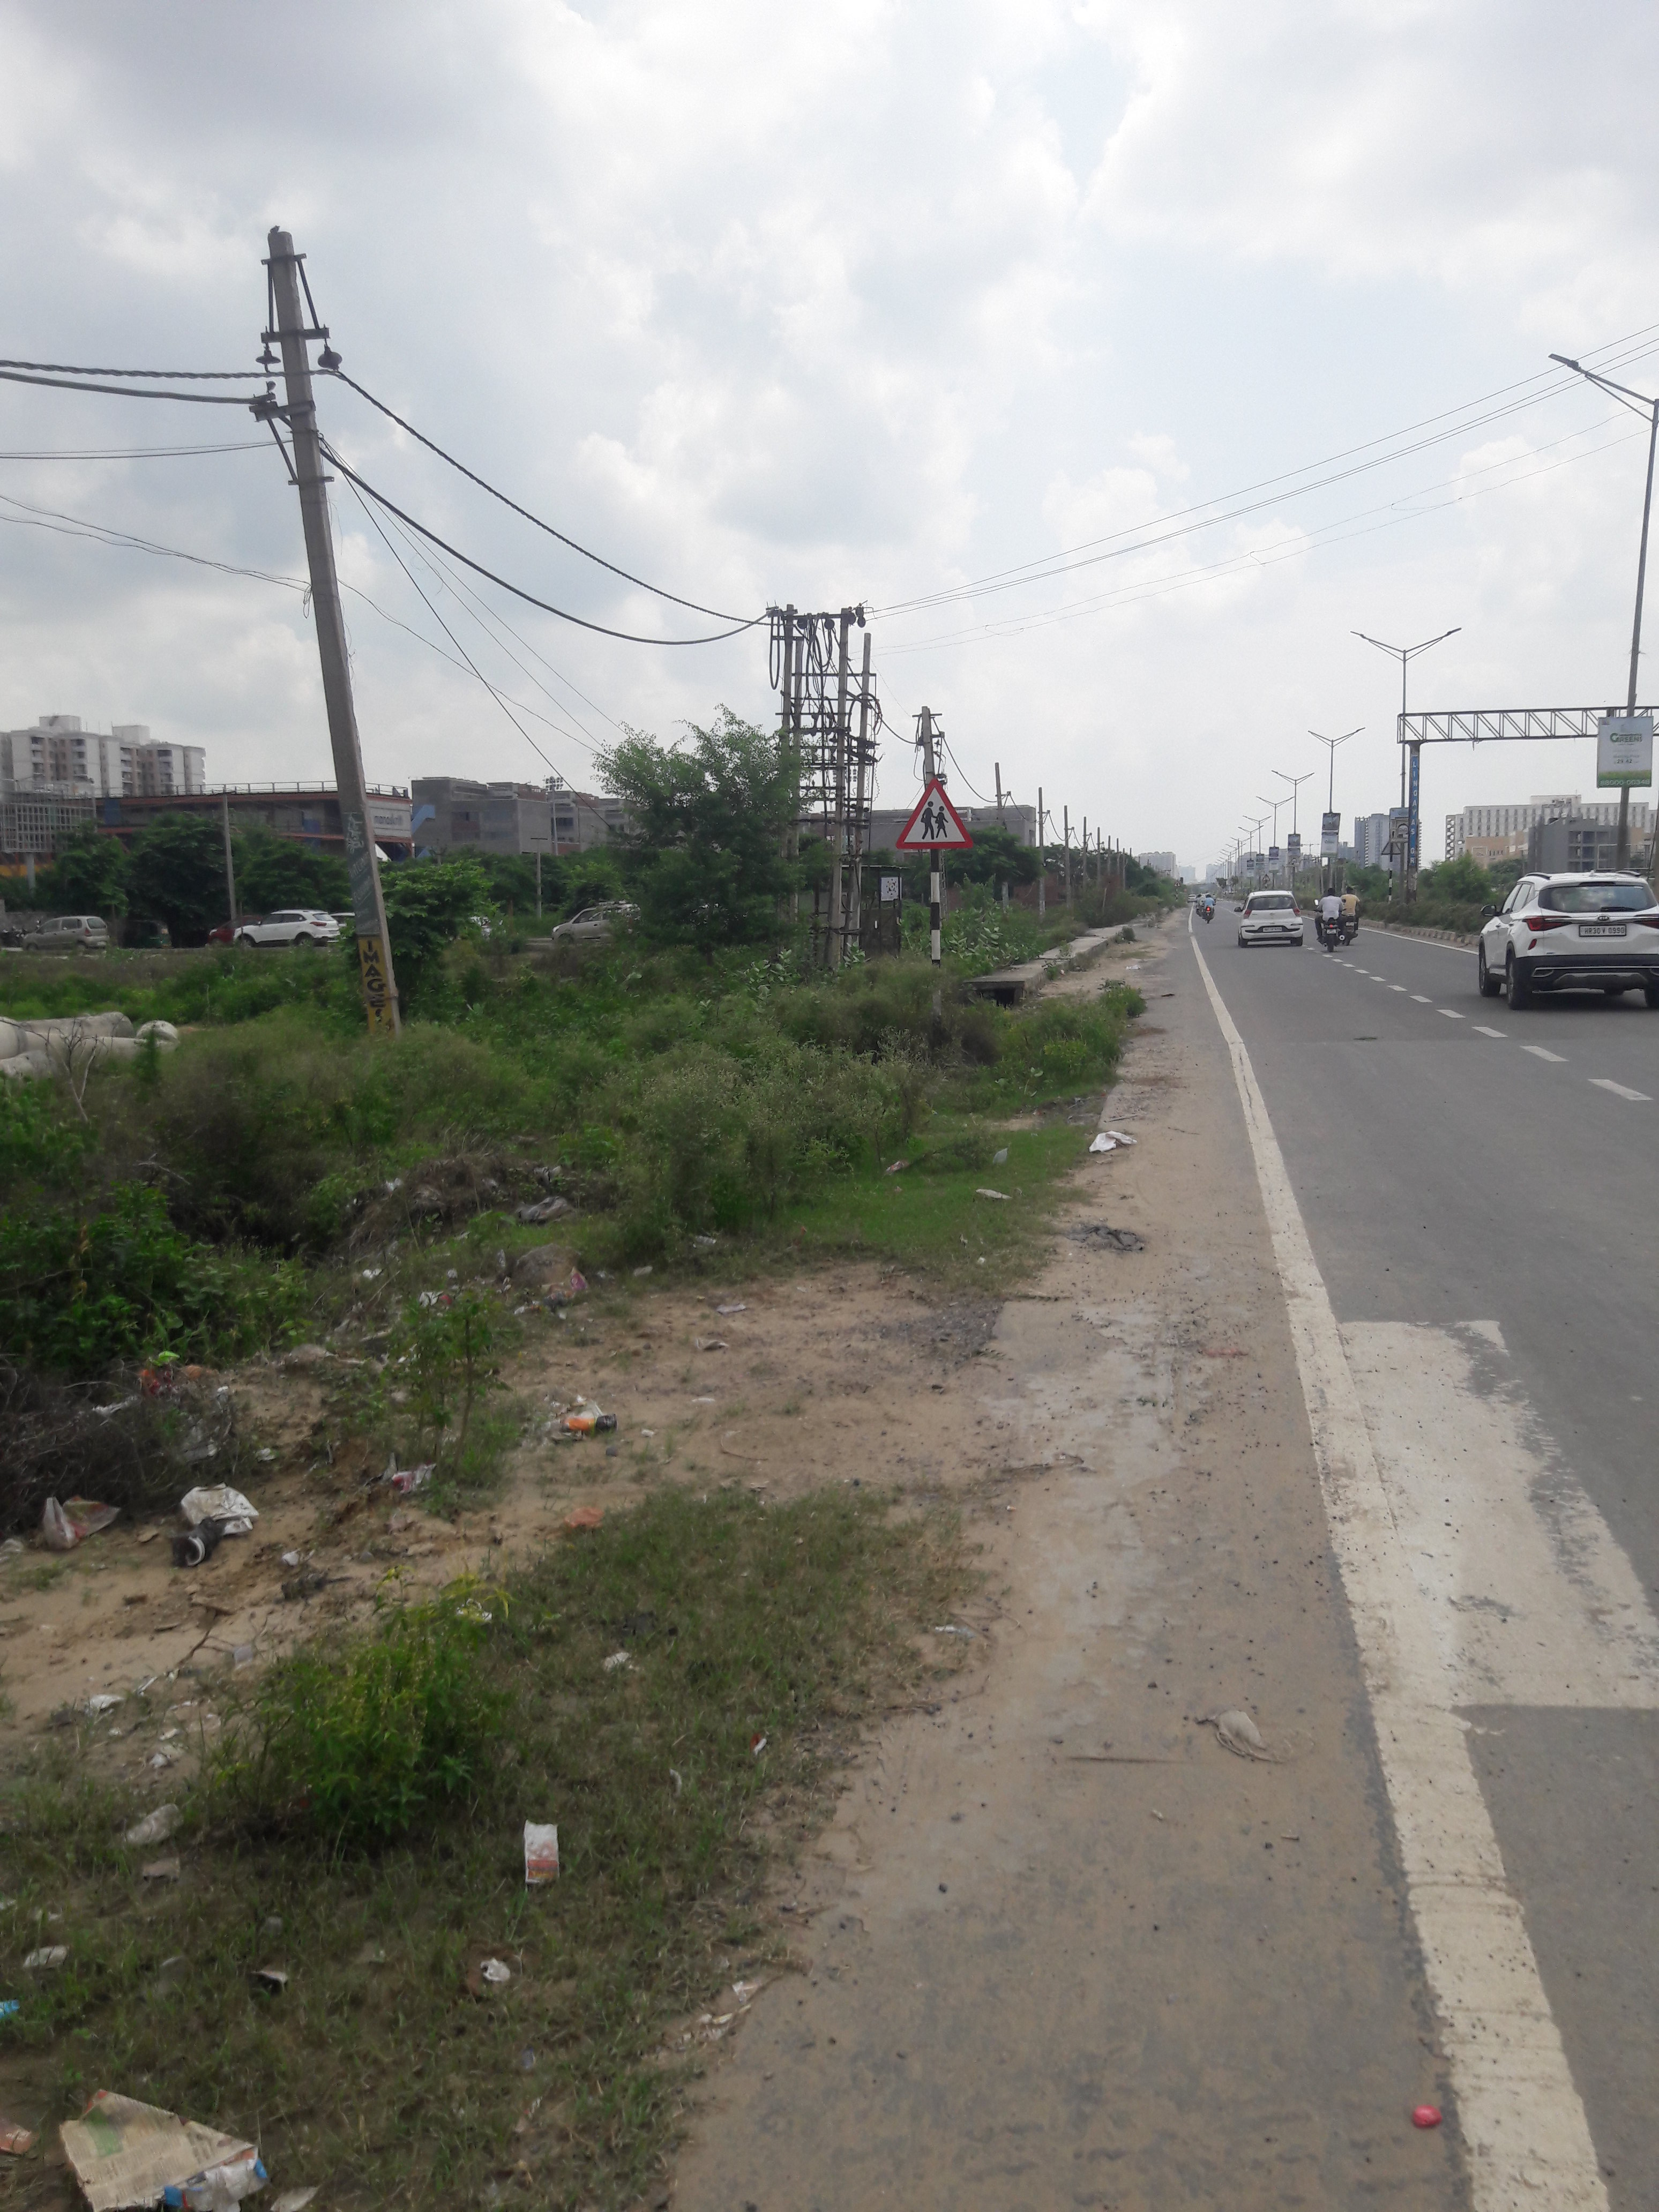traffic_sign: (896, 777, 971, 848)
